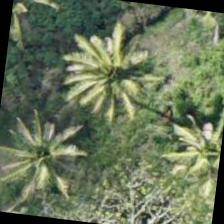Kelapa_Sawit: (60, 31, 160, 132), (0, 109, 93, 210), (151, 106, 223, 204)
